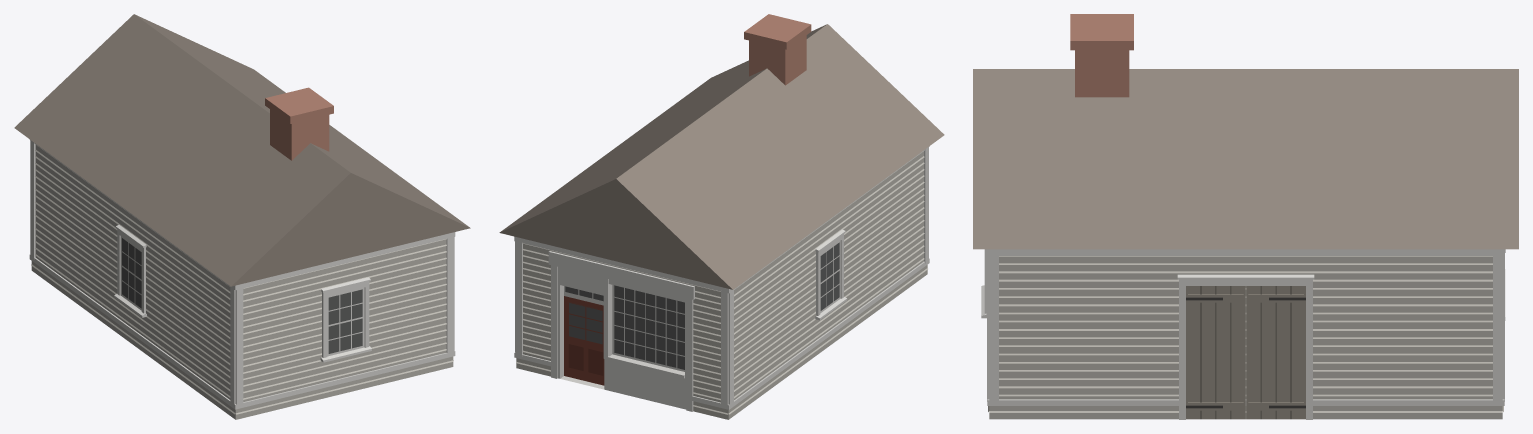
Rendered from recon_1835_west_007__inferred_1835.glb.
The picture shows the model from 3 angles, left to right: view 1: azimuth 30°, elevation 25°; view 2: azimuth 150°, elevation 25°; view 3: azimuth 270°, elevation 25°; orthographic projection. The views are drawn at different scales.
Parts seen in each view (by area): view 1: recon_1835_west_007__inferred_1835; view 2: recon_1835_west_007__inferred_1835; view 3: recon_1835_west_007__inferred_1835.
Boxes of the visible parts, <box> form: recon_1835_west_007__inferred_1835: <box>14,14,470,419</box>; recon_1835_west_007__inferred_1835: <box>499,14,944,419</box>; recon_1835_west_007__inferred_1835: <box>973,14,1518,419</box>.
Bounding box in the file's own units: 5.38 × 5.54 × 8.43.
